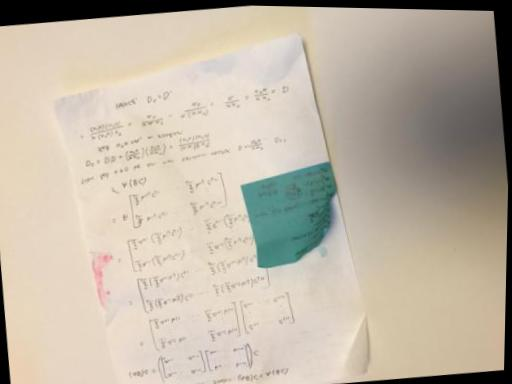paper: (55, 37, 368, 383)
